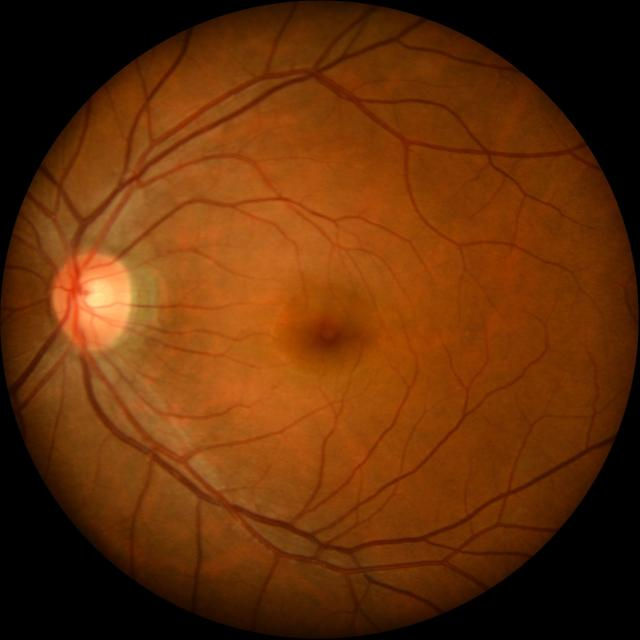OC: (76, 277, 112, 316)
OD: (52, 249, 132, 349)
